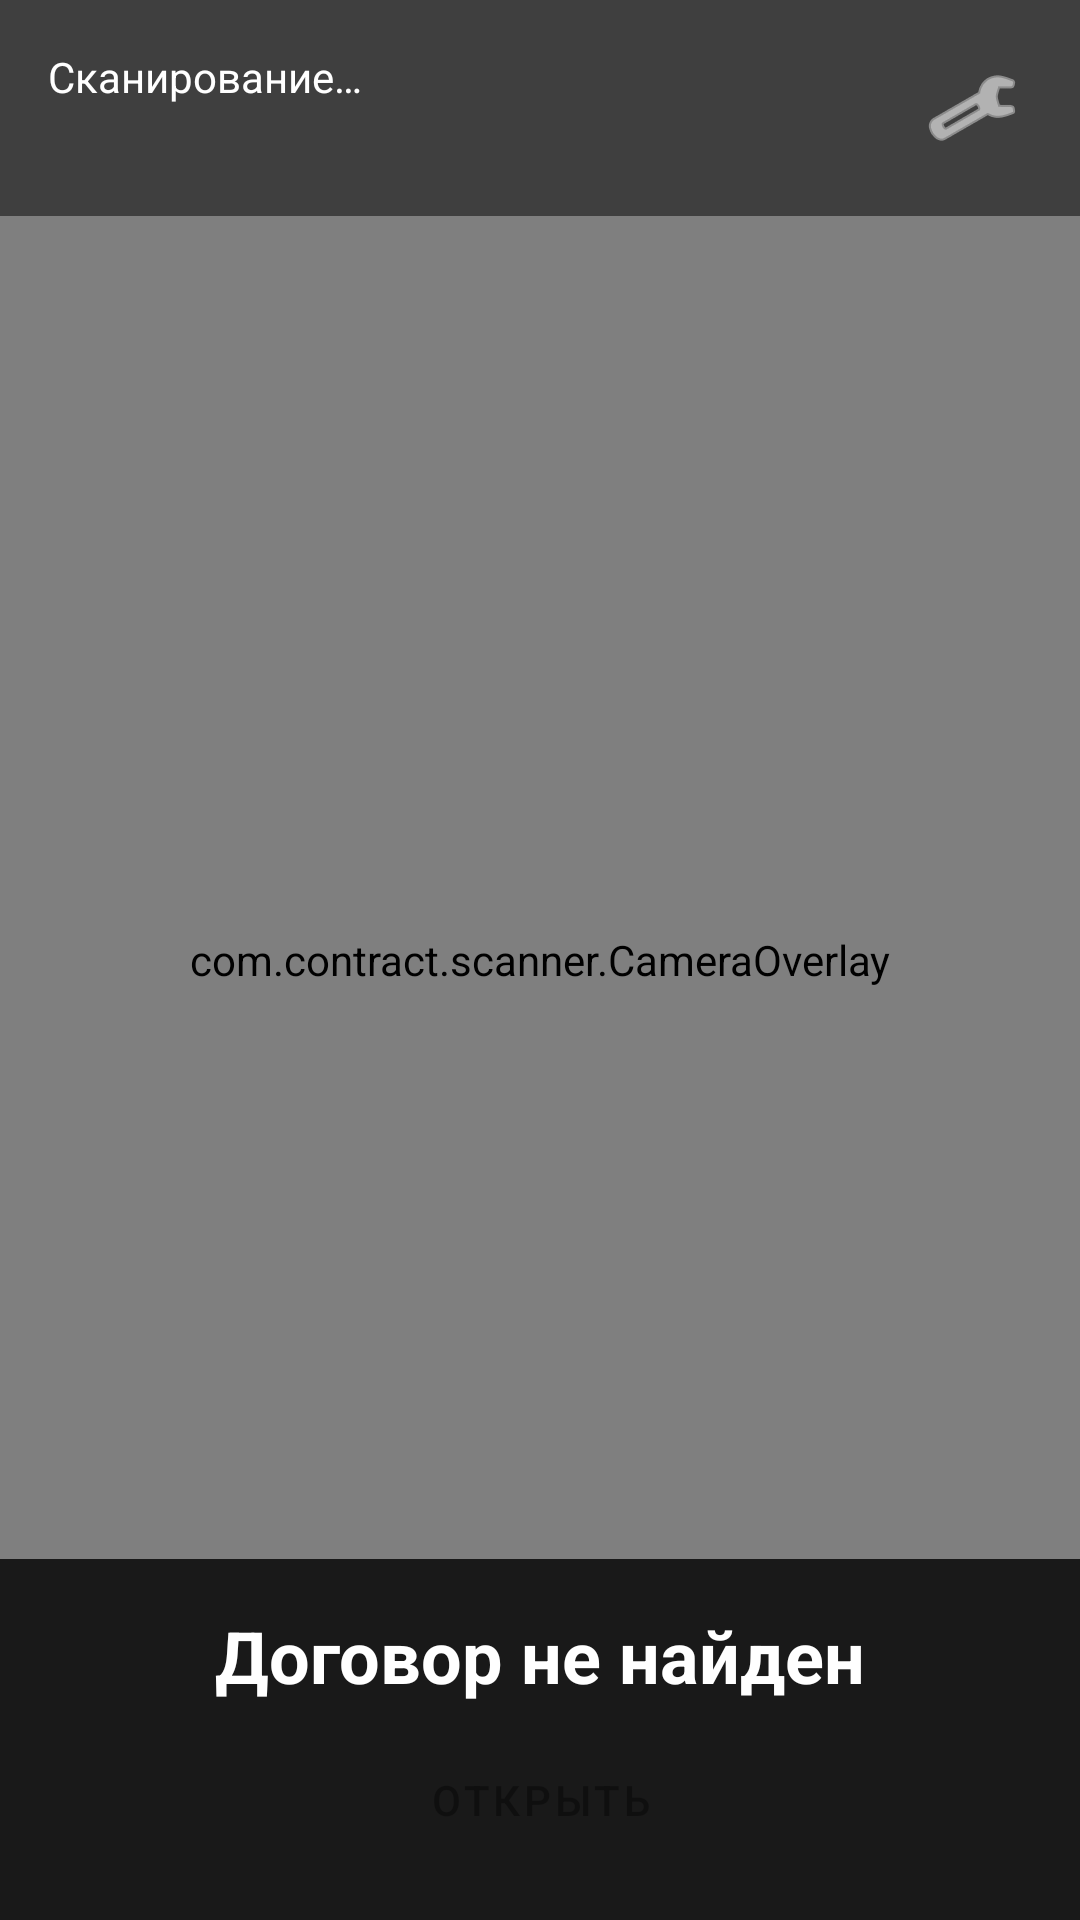

Where icons sit on this 1080px x 1920px app screen, as (x1, y1, x2, y2):
Настройки: (929, 75, 1015, 141)
